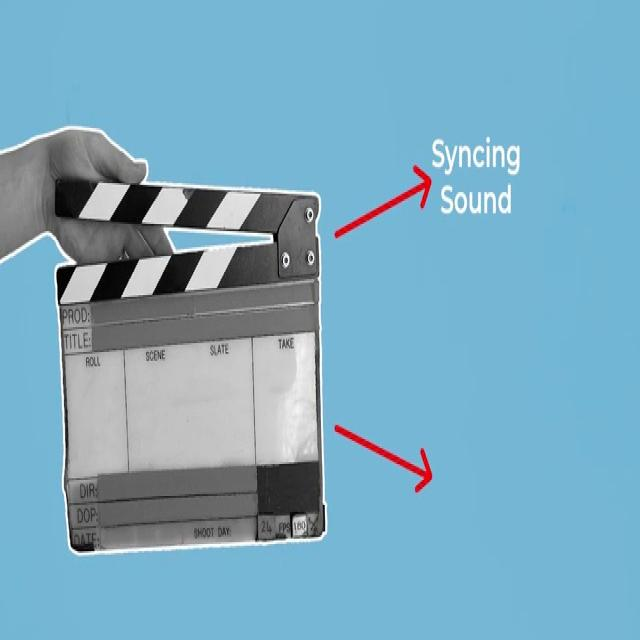Clapperboard: (54, 171, 329, 552)
